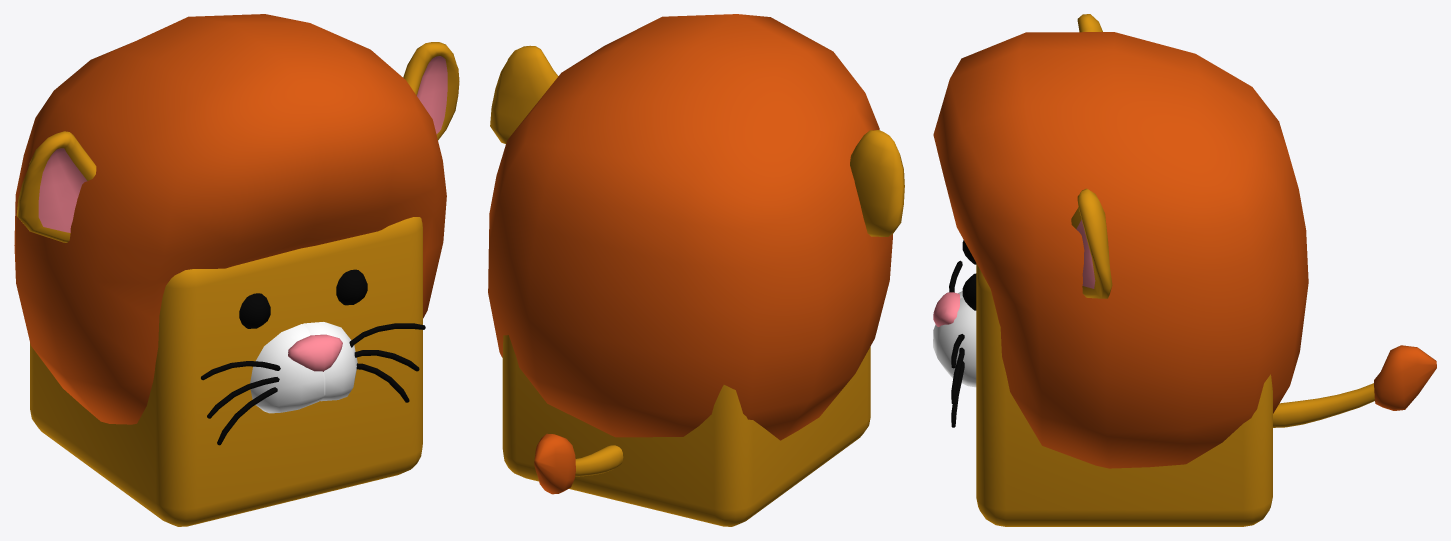
File: Lion.fbx
3 renders of one model, left to right at view 1: azimuth 30°, elevation 25°; view 2: azimuth 150°, elevation 25°; view 3: azimuth 270°, elevation 25°, orthographic. The views are drawn at different scales.
Visible parts, largest first — view 1: Lion; view 2: Lion; view 3: Lion.
Part boxes in pixels (<box>): Lion: <box>14,14,459,526</box>; Lion: <box>488,14,904,526</box>; Lion: <box>933,14,1436,526</box>.
Bounding box in the file's own units: 332 × 315 × 340.
